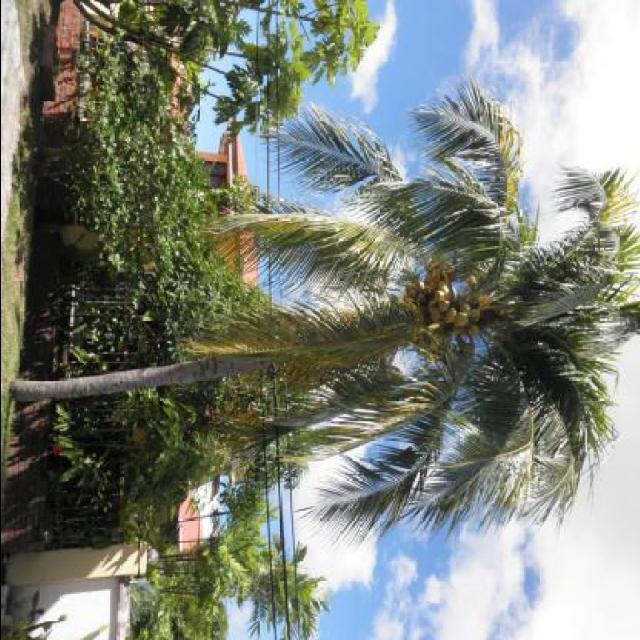Coconut: (402, 256, 484, 364)
